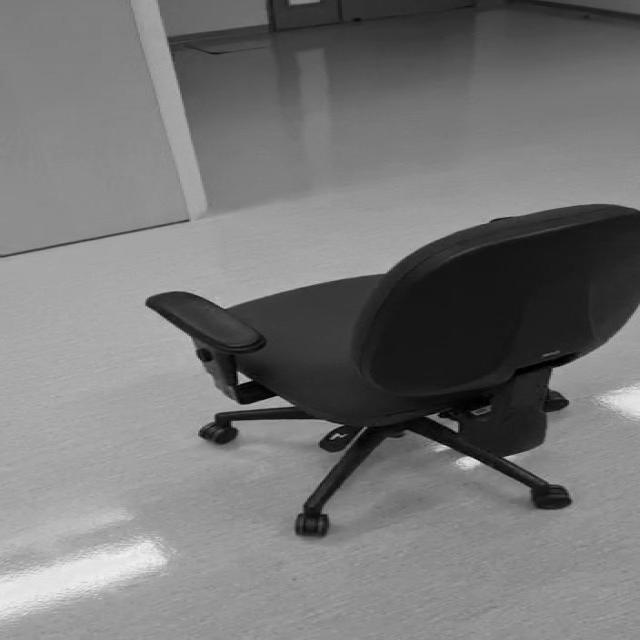cadeira-azul: (149, 203, 640, 536)
